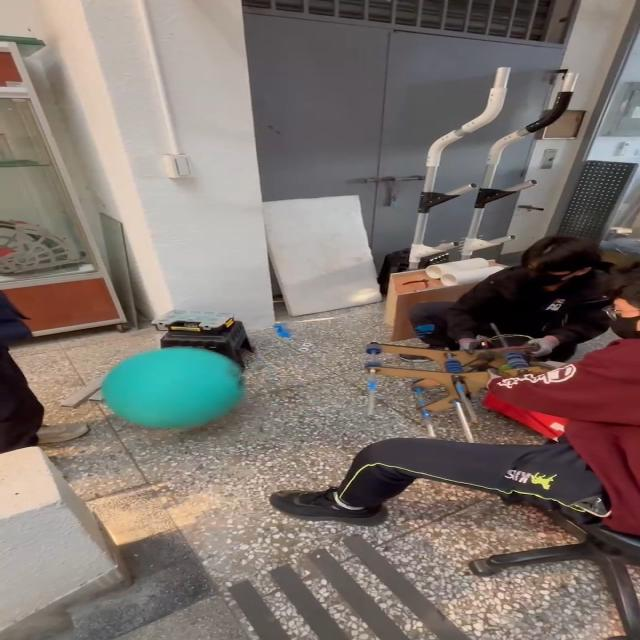ALGAE: (99, 345, 246, 431)
